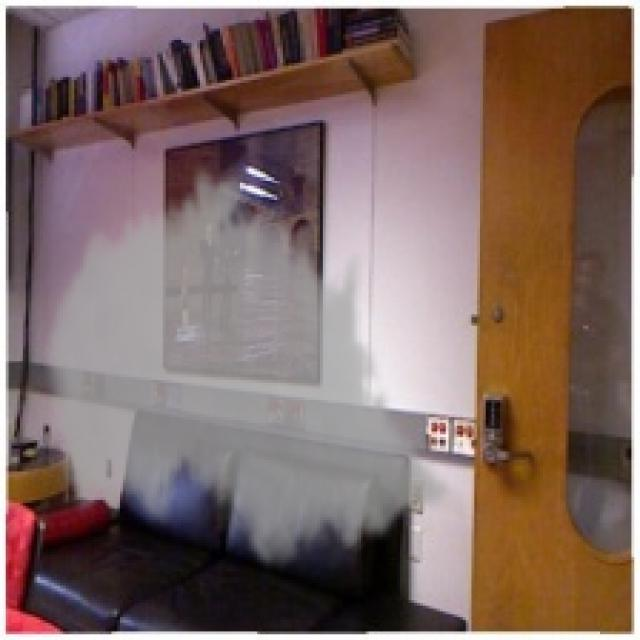smoke: (40, 160, 451, 580)
